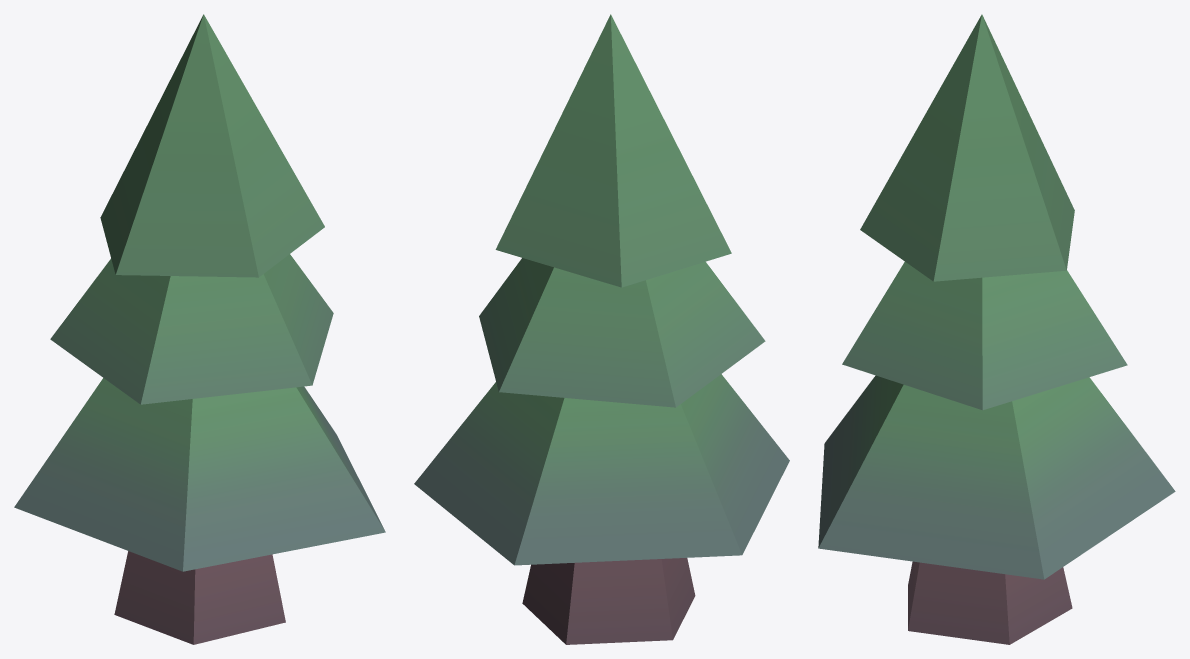
Rendered from TreePine.fbx.
3 renders of one model, left to right at view 1: azimuth 30°, elevation 25°; view 2: azimuth 150°, elevation 25°; view 3: azimuth 270°, elevation 25°, orthographic.
Visible parts, largest first — view 1: TreePine; view 2: TreePine; view 3: TreePine.
Boxes of the visible parts, x1=… form: TreePine: x1=14, y1=14, x2=385, y2=644; TreePine: x1=414, y1=14, x2=789, y2=644; TreePine: x1=818, y1=14, x2=1175, y2=644.
Size of the model in its own units: 10.8 by 18.86 by 10.27.
